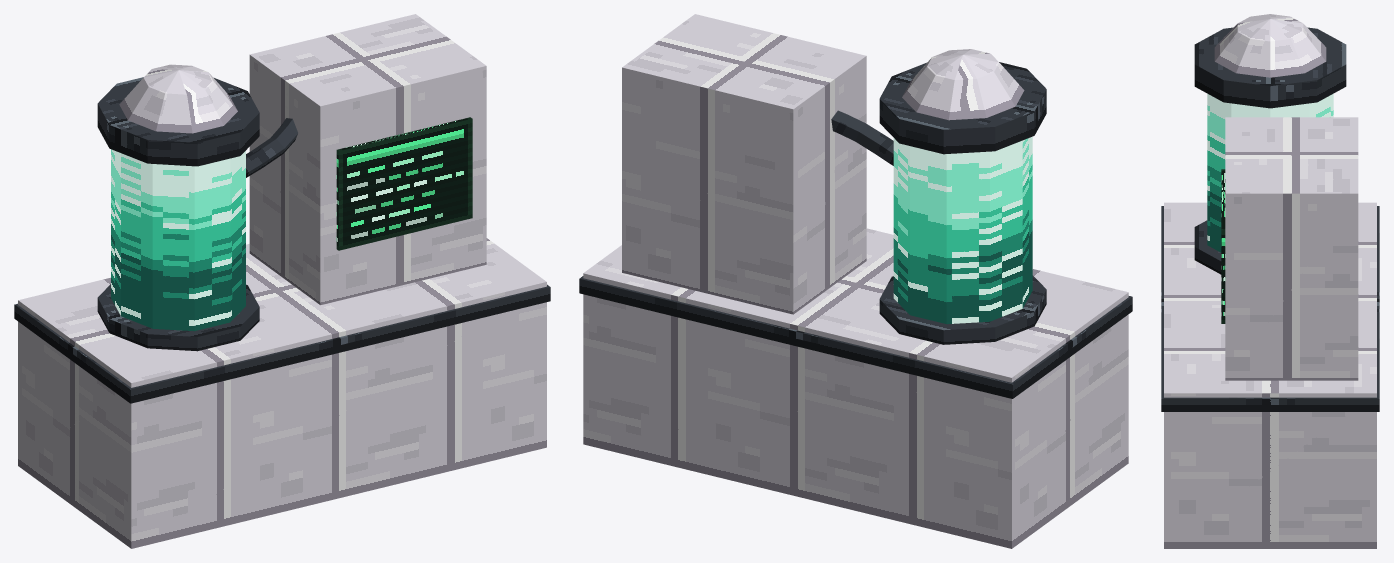
File: lab_machine.glb
3 renders of one model, left to right at view 1: azimuth 30°, elevation 25°; view 2: azimuth 150°, elevation 25°; view 3: azimuth 270°, elevation 25°, orthographic. The views are drawn at different scales.
Visible parts, largest first — view 1: lab_machine; view 2: lab_machine; view 3: lab_machine.
Boxes of the visible parts, box(x1,y1,x2,y2) form: lab_machine: box(14, 14, 550, 548); lab_machine: box(579, 14, 1132, 548); lab_machine: box(1161, 14, 1379, 548).
Bounding box in the file's own units: 1.92 × 1.8 × 0.92.
Materials: 4 (4 with a texture image).
